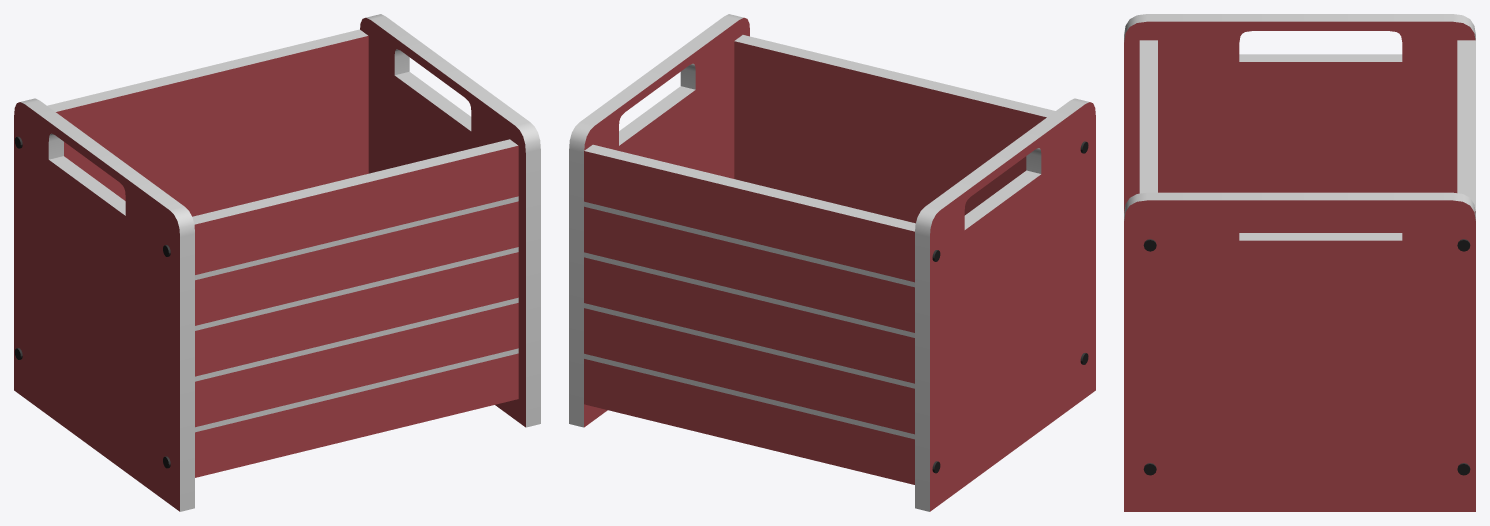
The model's file is Caja-4.FBX.
3 renders of one model, left to right at view 1: azimuth 30°, elevation 25°; view 2: azimuth 150°, elevation 25°; view 3: azimuth 270°, elevation 25°, orthographic. The views are drawn at different scales.
Visible parts, largest first — view 1: Caja003; view 2: Caja003; view 3: Caja003.
Boxes of the visible parts, <box> form: Caja003: <box>14,14,540,511</box>; Caja003: <box>569,14,1095,511</box>; Caja003: <box>1124,14,1475,511</box>.
Size of the model in its own units: 68.83 by 54.3 by 53.06.
